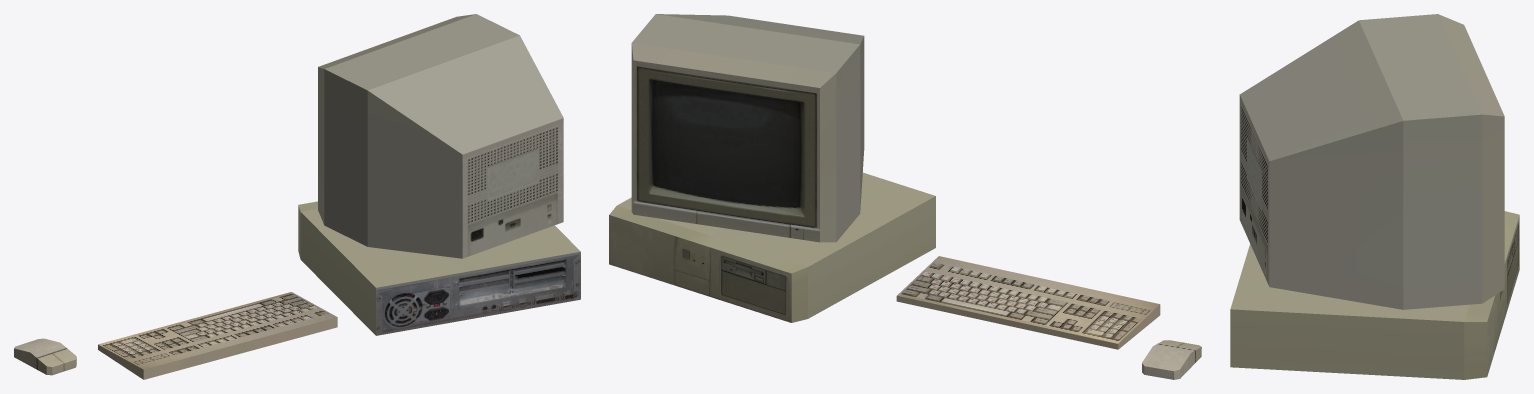
File: Computadora.obj
The picture shows the model from 3 angles, left to right: view 1: azimuth 30°, elevation 25°; view 2: azimuth 150°, elevation 25°; view 3: azimuth 270°, elevation 25°; orthographic projection. The views are drawn at different scales.
Visible parts, largest first — view 1: Computadora:MONITOR, Computadora:COMP1, Computadora:KEYBOARD, Computadora:MOUSE; view 2: Computadora:MONITOR, Computadora:COMP1, Computadora:KEYBOARD, Computadora:MOUSE; view 3: Computadora:MONITOR, Computadora:COMP1.
Boxes of the visible parts, <box> form: Computadora:MONITOR: <box>318,14,563,258</box>; Computadora:COMP1: <box>298,201,580,335</box>; Computadora:KEYBOARD: <box>98,292,337,379</box>; Computadora:MOUSE: <box>14,338,76,375</box>; Computadora:MONITOR: <box>631,14,864,242</box>; Computadora:COMP1: <box>609,172,935,322</box>; Computadora:KEYBOARD: <box>896,256,1160,349</box>; Computadora:MOUSE: <box>1142,340,1201,379</box>; Computadora:MONITOR: <box>1239,14,1504,309</box>; Computadora:COMP1: <box>1230,211,1519,379</box>.
Size of the model in its own units: 1.45 by 0.5741 by 0.5954.
Materials: 1 (1 with a texture image).
